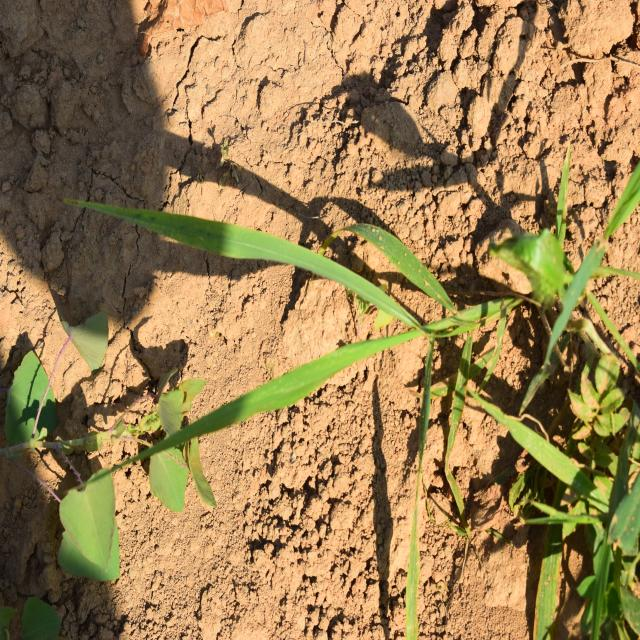green_foxtail: (192, 182, 469, 517)
